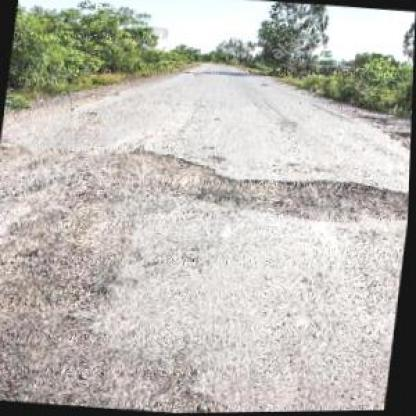pothole: (229, 171, 409, 233), (111, 143, 222, 208)
